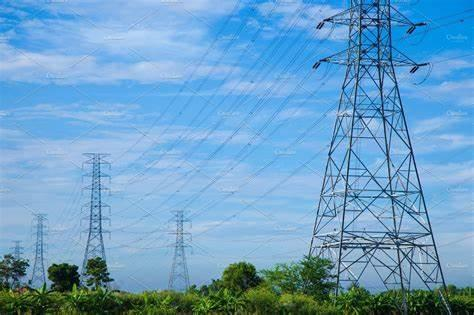power_tower: (303, 0, 453, 314), (73, 148, 118, 282), (160, 204, 203, 293), (24, 208, 63, 288)
